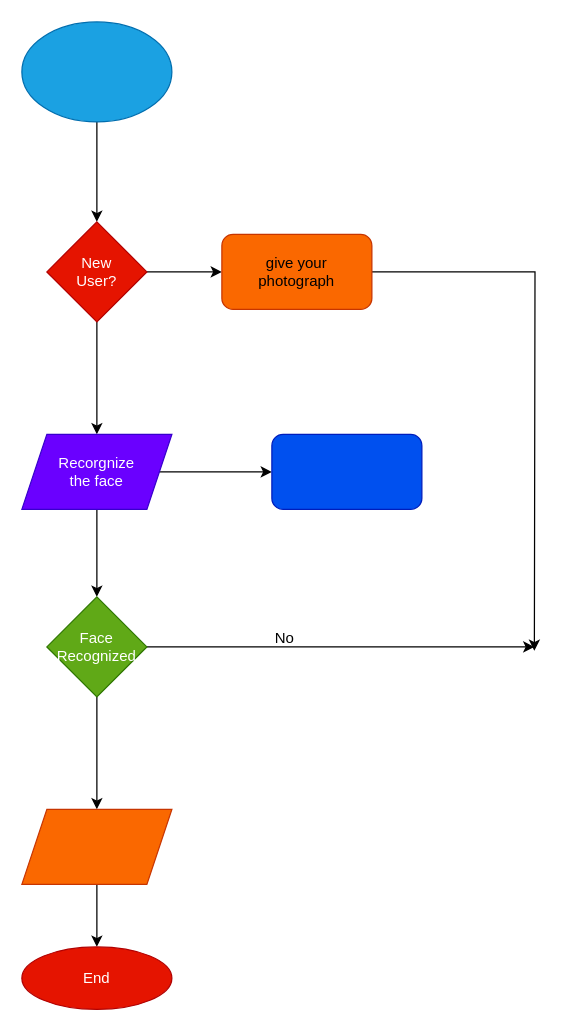
The diagram is 568 pixels wide and 1031 high, and some of its shapes have lost their labels. Here are the shapes that lost their labels. From the top down, the centre of each, then its label:
the point at 96,71: start
the point at 346,471: store the face data in forder on your name
the point at 96,846: Stored in csv file with registration number&&date time of entry
